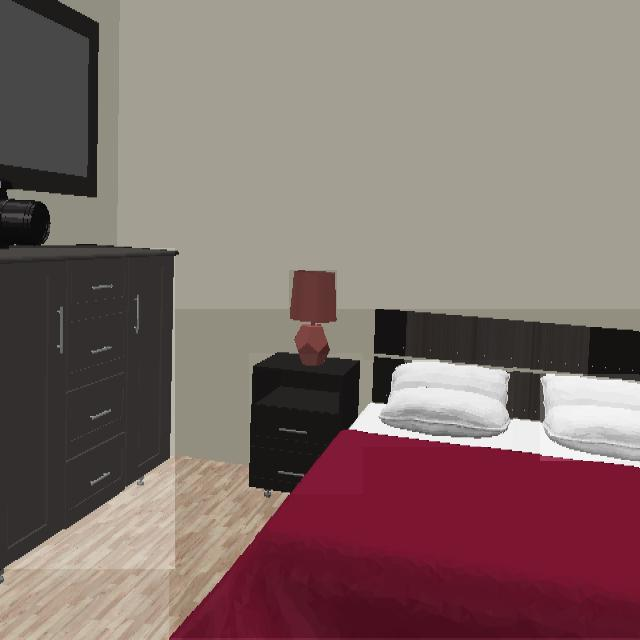bed: (170, 309, 640, 639)
cabinet: (0, 248, 175, 569)
lamp: (289, 271, 337, 370)
nighttable: (249, 355, 363, 494)
pillow: (349, 361, 513, 447), (540, 375, 640, 461)
